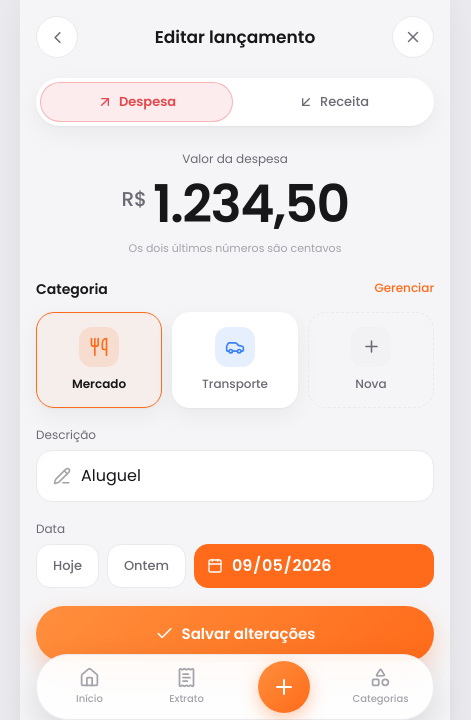
edit transaction › pre-fills the form from the API and sends PUT
Expected: the heading "Editar lançamento" is shown, [155, 26, 315, 48]
Expected: the field labelled "Descrição" holds "Aluguel", [81, 463, 417, 488]
Type "0" into the field named "Valor em reais" at x=251, y=204, box [153, 174, 348, 234]
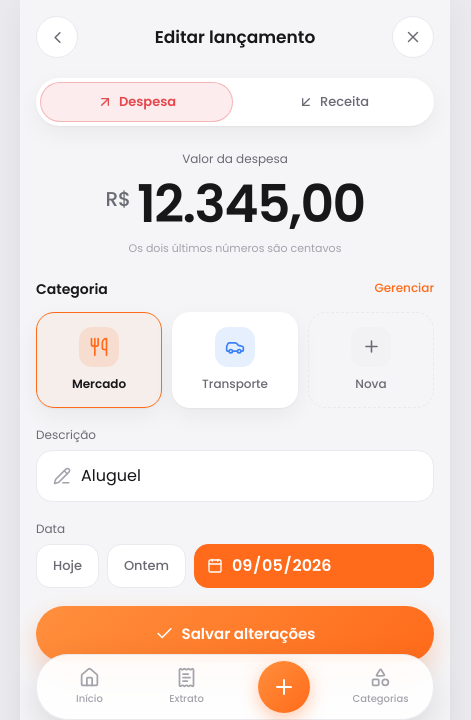
Now the field named "Valor em reais" holds "12.345,00", box [137, 174, 365, 234]
Replace the text in the field labelled "Descrição" with "Aluguel setembro" at x=249, y=476, box [81, 463, 417, 488]
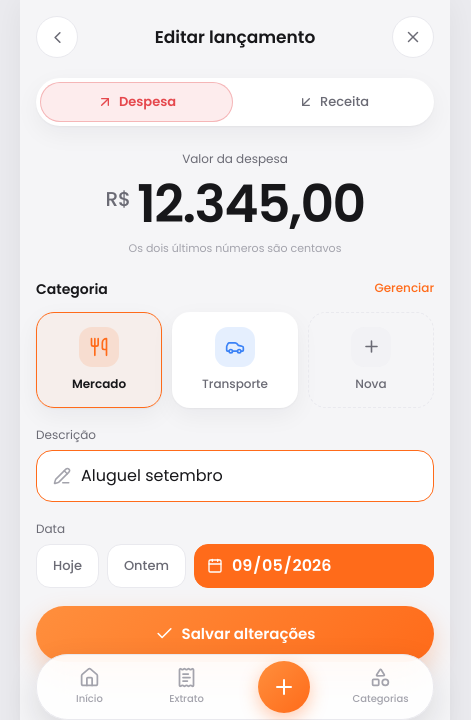
Click the radio button labelled "Transporte" at x=235, y=360, box [172, 312, 298, 408]
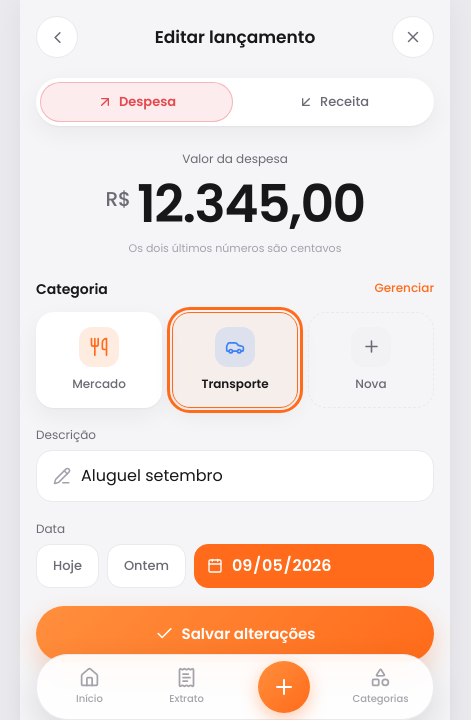
Click the button "Salvar alterações" at x=235, y=634, box [36, 606, 434, 662]
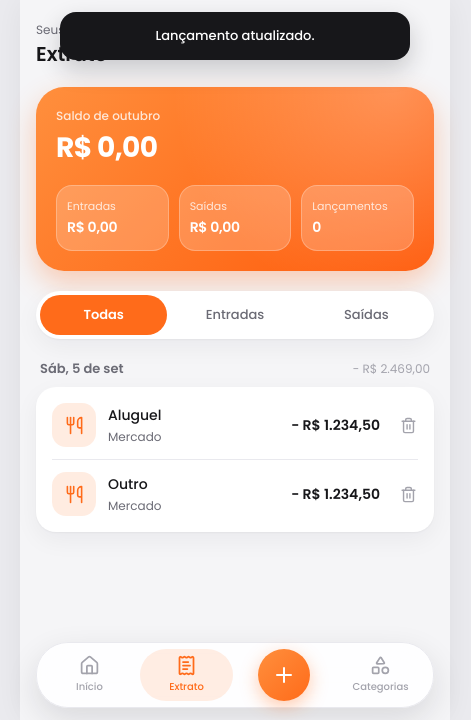
Now the heading "Extrato" is shown, box [36, 40, 107, 68]
